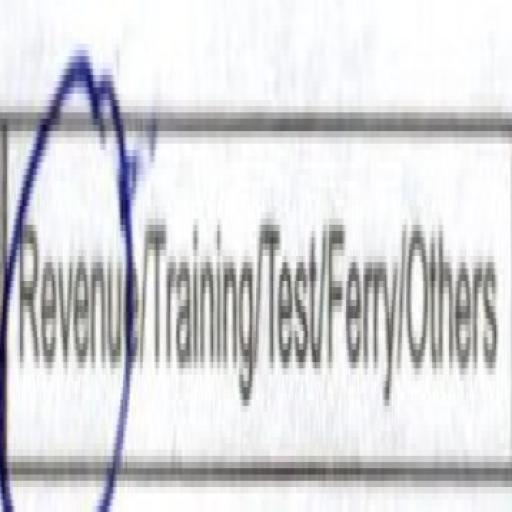check: (0, 49, 137, 474)
